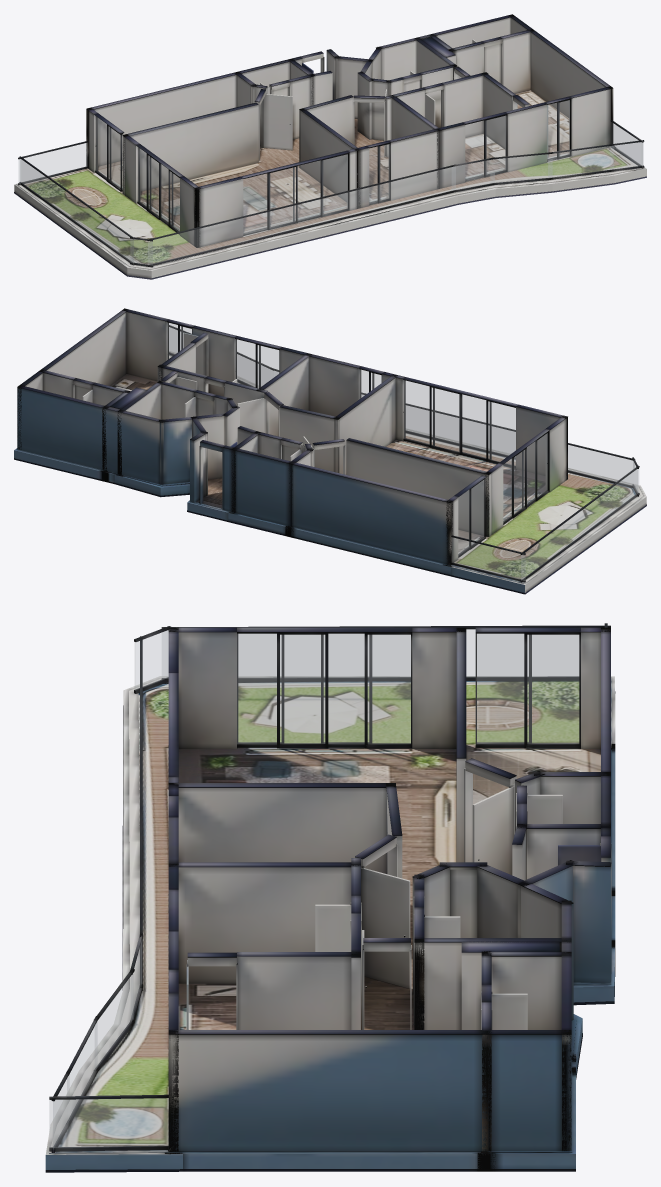
The picture shows the model from 3 angles, top to bottom: view 1: azimuth 30°, elevation 25°; view 2: azimuth 150°, elevation 25°; view 3: azimuth 270°, elevation 25°; orthographic projection. The views are drawn at different scales.
Parts seen in each view (by area): view 1: plan, railg6_m, glass2_m, railg16_m, glass1_m, glass4_m, railg0_m, railg12_m, railg13_m, glass0_m, glass5_m, railg14_m (+4 smaller); view 2: plan, glass2_m, railg6_m, railg16_m, glass1_m, railg0_m, glass4_m, glass0_m, railg13_m, glass5_m; view 3: plan, glass1_m, railg16_m, glass0_m, railg10_m, railg13_m, railg15_m, railg12_m.
Boxes of the visible parts, x1,y1,x2,y2 form: plan: (14,14,646,279); railg6_m: (148,166,455,264); glass2_m: (243,154,347,233); railg16_m: (20,159,133,263); glass1_m: (138,147,179,231); glass4_m: (465,116,505,179); railg0_m: (18,143,87,182); railg12_m: (548,146,613,177); railg13_m: (491,154,552,182); glass0_m: (96,117,122,189); glass5_m: (547,100,569,157); railg14_m: (452,159,494,190); plan: (14,308,646,594); glass2_m: (404,380,515,465); railg6_m: (362,395,634,485); railg16_m: (521,469,638,580); glass1_m: (503,433,547,522); railg0_m: (452,537,525,579); glass4_m: (235,339,278,388); glass0_m: (458,480,483,554); railg13_m: (237,354,273,387); glass5_m: (167,323,191,359); plan: (45,623,615,1172); glass1_m: (237,634,410,743); railg16_m: (162,629,578,678); glass0_m: (476,634,578,743); railg10_m: (49,1098,168,1147); railg13_m: (95,973,133,1069); railg15_m: (135,630,167,689); railg12_m: (67,1022,97,1118).
Size of the model in its own units: 19.85 by 2.62 by 9.98.
2 materials, 1 textured.
